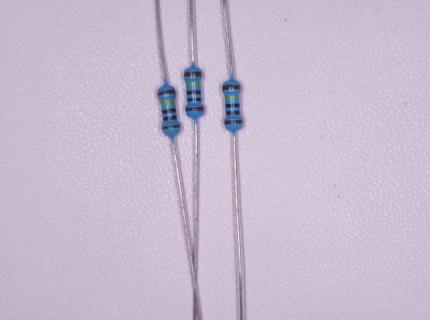Black band: (162, 108, 176, 114), (187, 90, 201, 95), (163, 116, 176, 121), (225, 104, 240, 108), (187, 98, 201, 102), (226, 111, 240, 115)
Brown band: (157, 89, 176, 96), (184, 71, 202, 76), (223, 85, 241, 90), (224, 120, 243, 124), (162, 125, 180, 129), (186, 107, 203, 111)
Yellow band: (161, 100, 175, 105), (225, 96, 239, 100), (187, 83, 200, 86)
